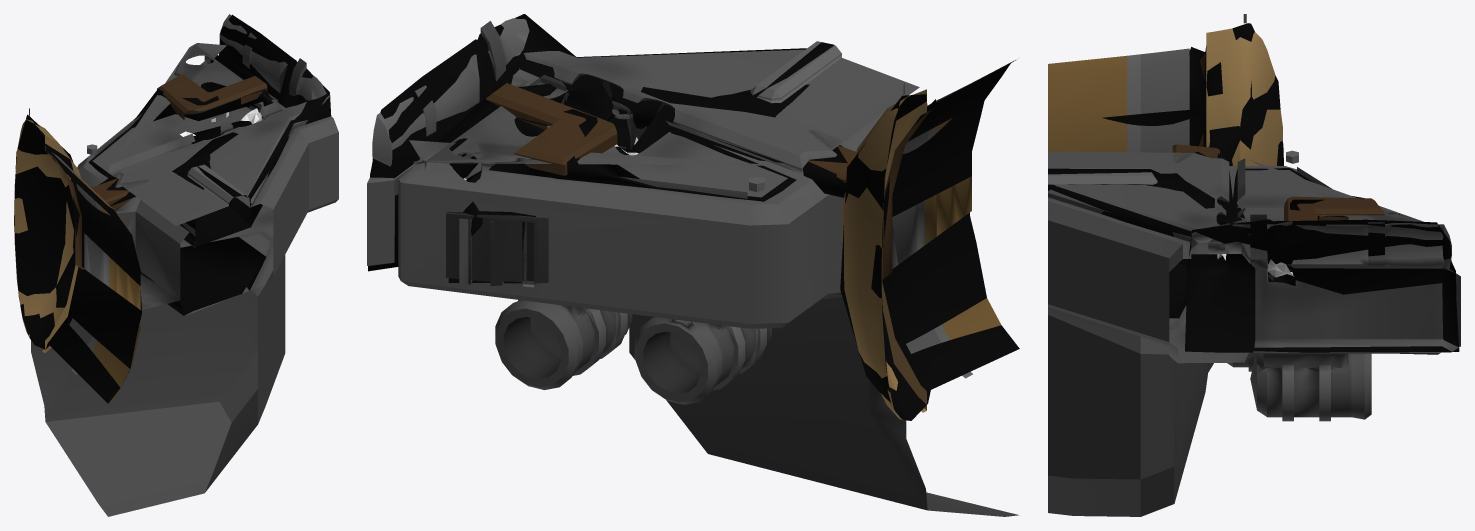
The model's file is newsh4-16-d.glb.
3 views of the same model, side by side, from view 1: azimuth 30°, elevation 25°; view 2: azimuth 150°, elevation 25°; view 3: azimuth 270°, elevation 25° (orthographic). The views are drawn at different scales.
Visible parts, largest first — view 1: newsh4-16, newsh4-16_outline; view 2: newsh4-16, newsh4-16_outline; view 3: newsh4-16, newsh4-16_outline.
Part boxes in pixels (left/top/right/bottom): newsh4-16: left=14, top=14, right=338, bottom=516; newsh4-16_outline: left=14, top=14, right=331, bottom=403; newsh4-16: left=367, top=18, right=1019, bottom=516; newsh4-16_outline: left=368, top=14, right=1019, bottom=420; newsh4-16: left=1048, top=14, right=1460, bottom=516; newsh4-16_outline: left=1048, top=23, right=1459, bottom=352.
Size of the model in its own units: 2 by 2.4 by 2.04.
Materials: 14 (13 with a texture image).
